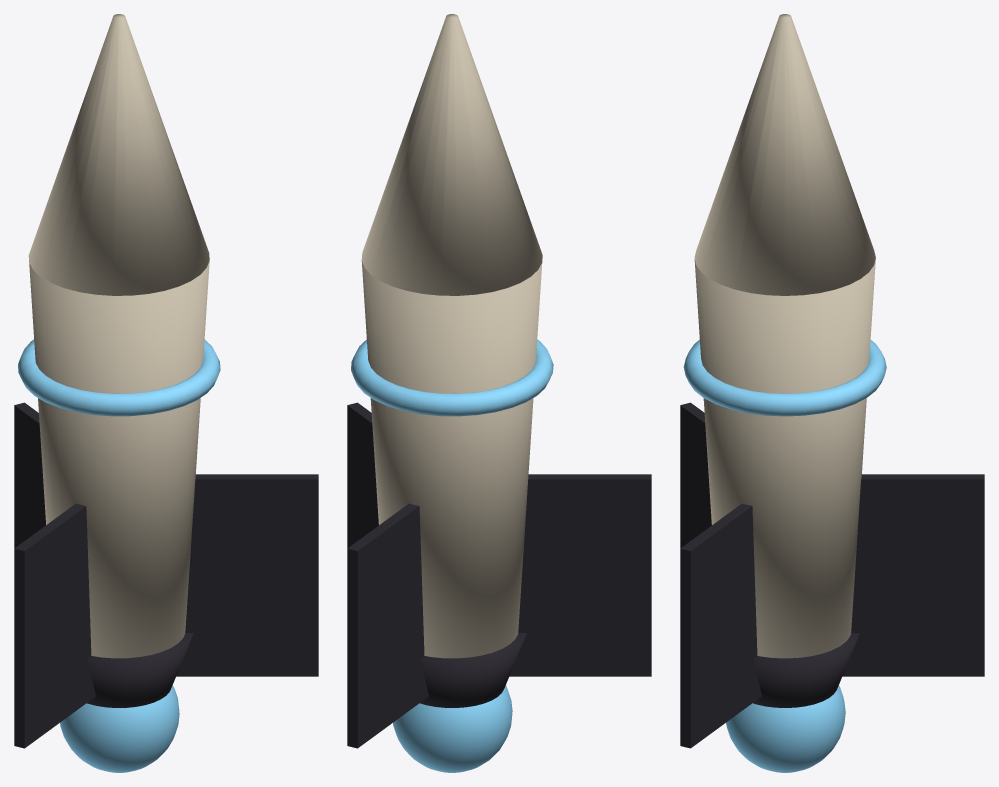
The model's file is sonde.obj.
3 renders of one model, left to right at view 1: azimuth 30°, elevation 25°; view 2: azimuth 150°, elevation 25°; view 3: azimuth 270°, elevation 25°, orthographic.
Parts seen in each view (by area): view 1: Sonde; view 2: Sonde; view 3: Sonde.
Boxes of the visible parts, box(x1,y1,x2,y2) form: Sonde: box(14, 14, 318, 772); Sonde: box(347, 14, 651, 772); Sonde: box(680, 14, 984, 772).
Bounding box in the file's own units: 2.91 × 6.85 × 2.52.
